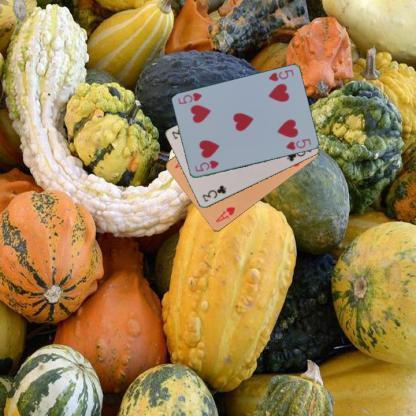3c: (199, 182, 228, 204)
5h: (266, 67, 295, 83), (192, 158, 221, 172)
Ah: (214, 204, 236, 224)
